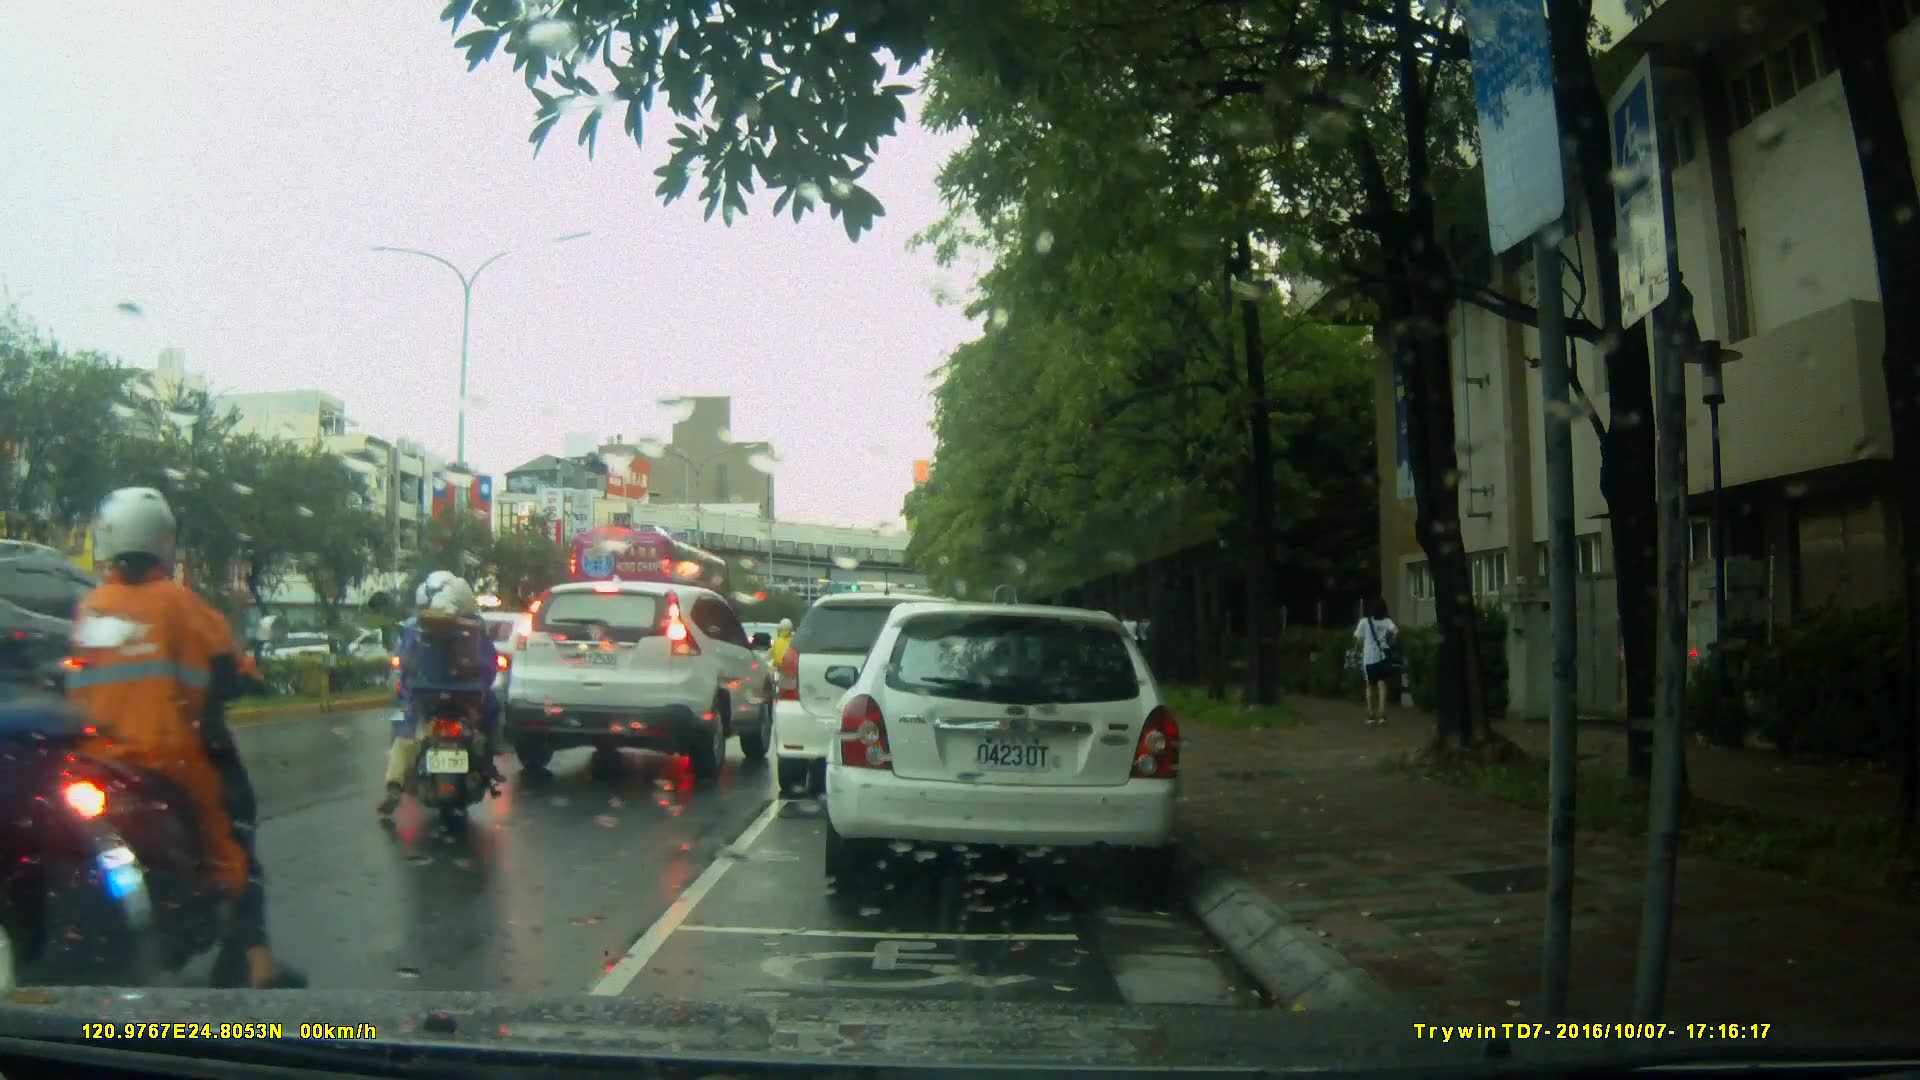pedestrian: (1340, 585, 1406, 743), (1117, 602, 1150, 688)
rider: (1, 489, 302, 1008), (377, 575, 518, 828), (768, 614, 800, 712)
vehicle: (835, 594, 1194, 898), (500, 582, 783, 782), (776, 590, 1026, 784), (563, 526, 733, 635)
